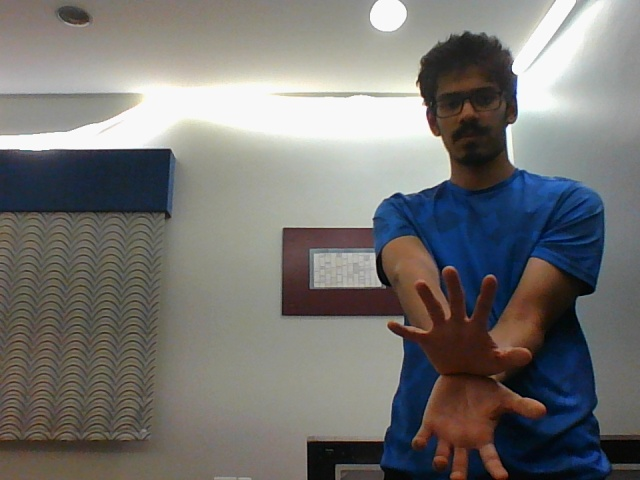blast: (379, 263, 549, 477)
